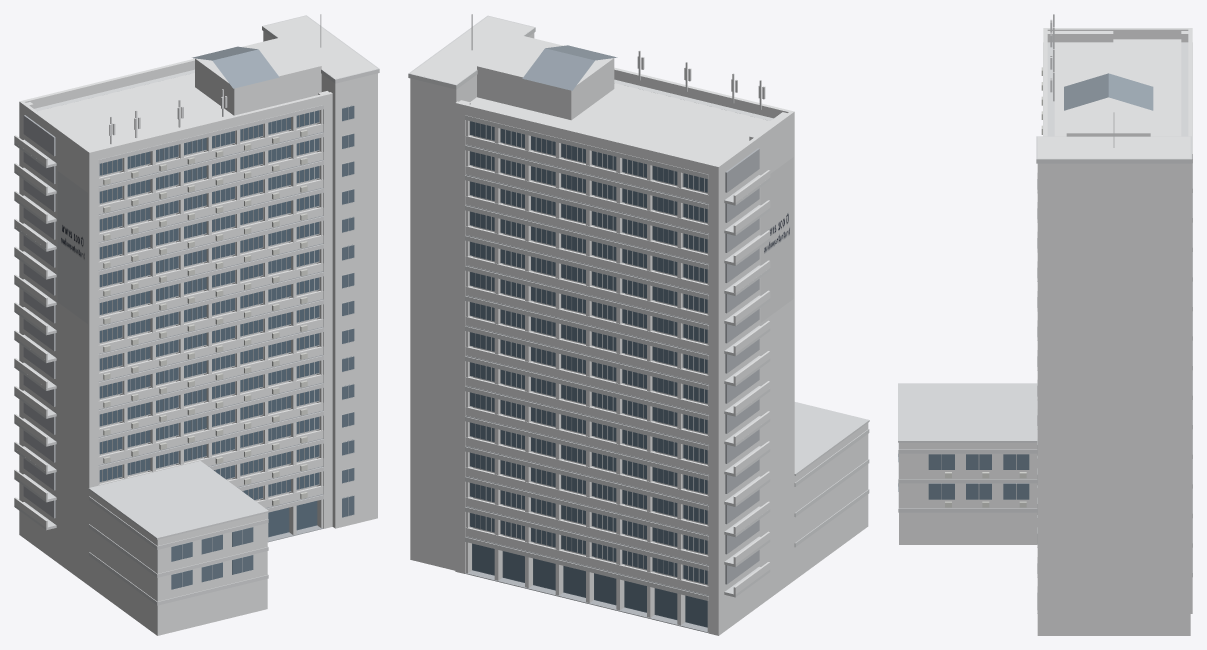
3 views of the same model, side by side, from view 1: azimuth 30°, elevation 25°; view 2: azimuth 150°, elevation 25°; view 3: azimuth 270°, elevation 25° (orthographic). The views are drawn at different scales.
Parts seen in each view (by area): view 1: VRU_100th_Anniversary_Srinagarindra_15F; view 2: VRU_100th_Anniversary_Srinagarindra_15F; view 3: VRU_100th_Anniversary_Srinagarindra_15F.
Boxes of the visible parts, x1,y1,x2,y2 form: VRU_100th_Anniversary_Srinagarindra_15F: (14,14,379,635); VRU_100th_Anniversary_Srinagarindra_15F: (408,14,869,635); VRU_100th_Anniversary_Srinagarindra_15F: (898,14,1192,635).
Size of the model in its own units: 39.1 by 60.7 by 31.65.
Materials: 9 (1 with a texture image).
